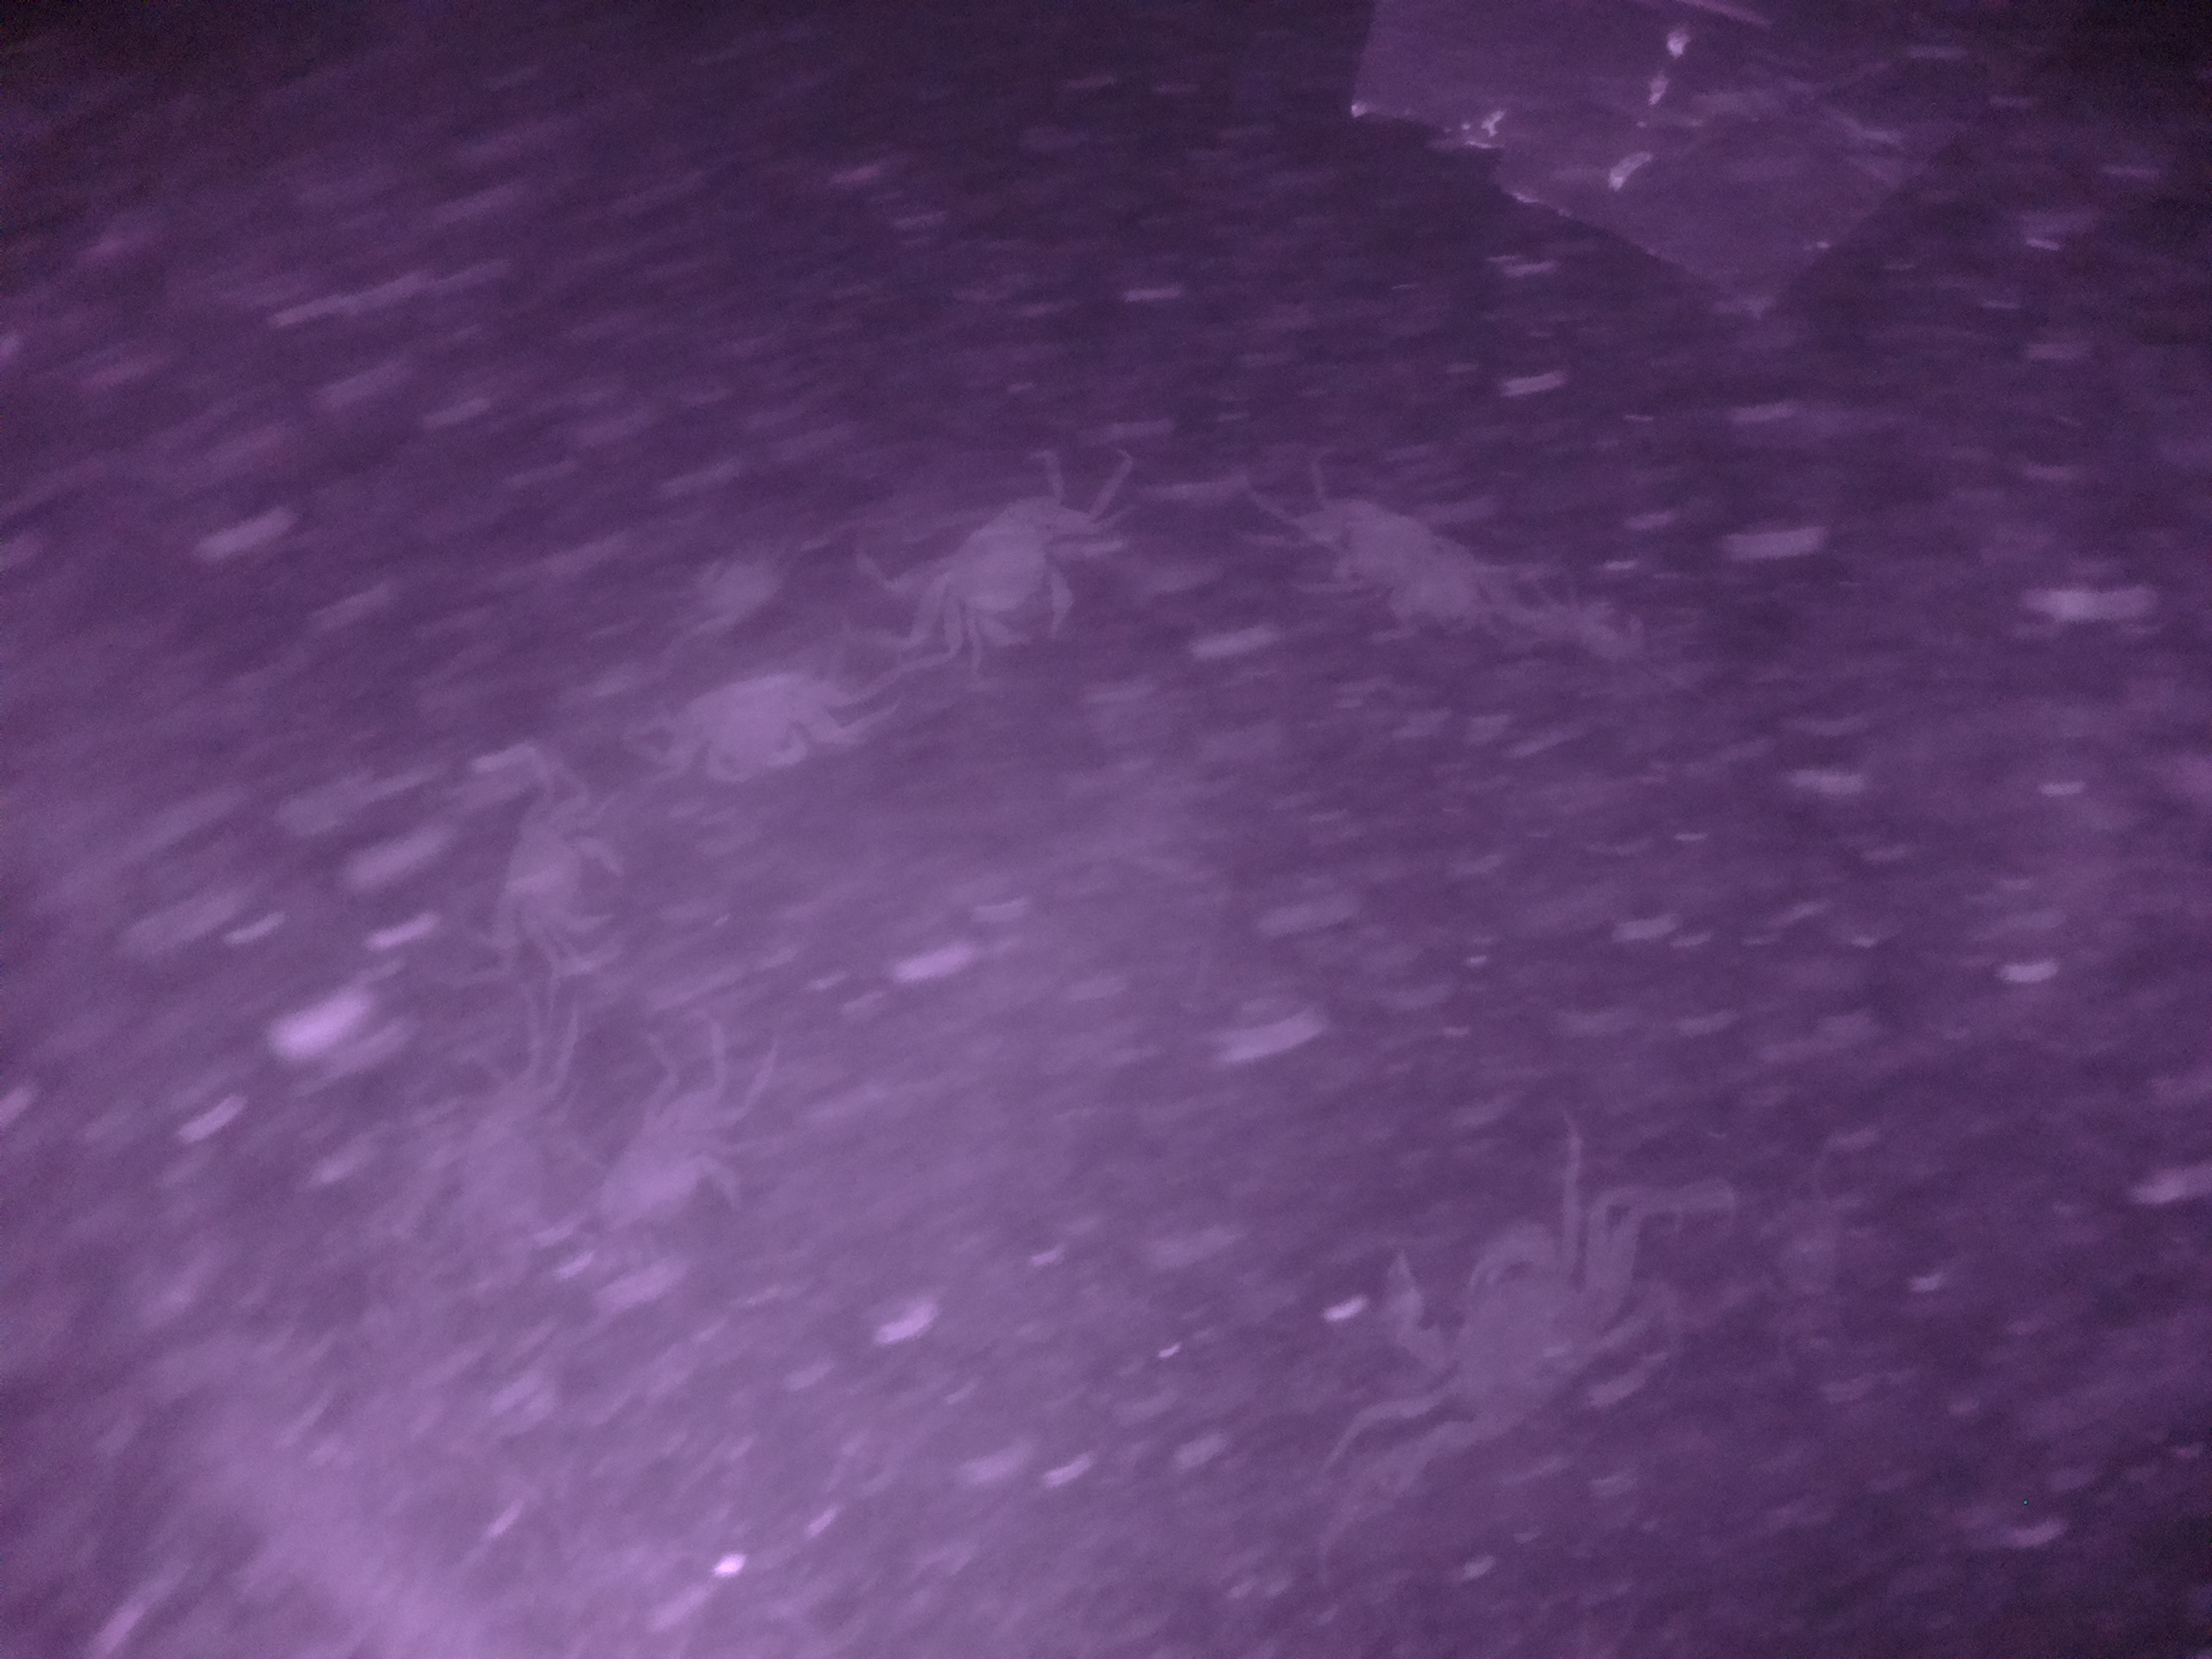Crab: (913, 474, 1106, 673)
